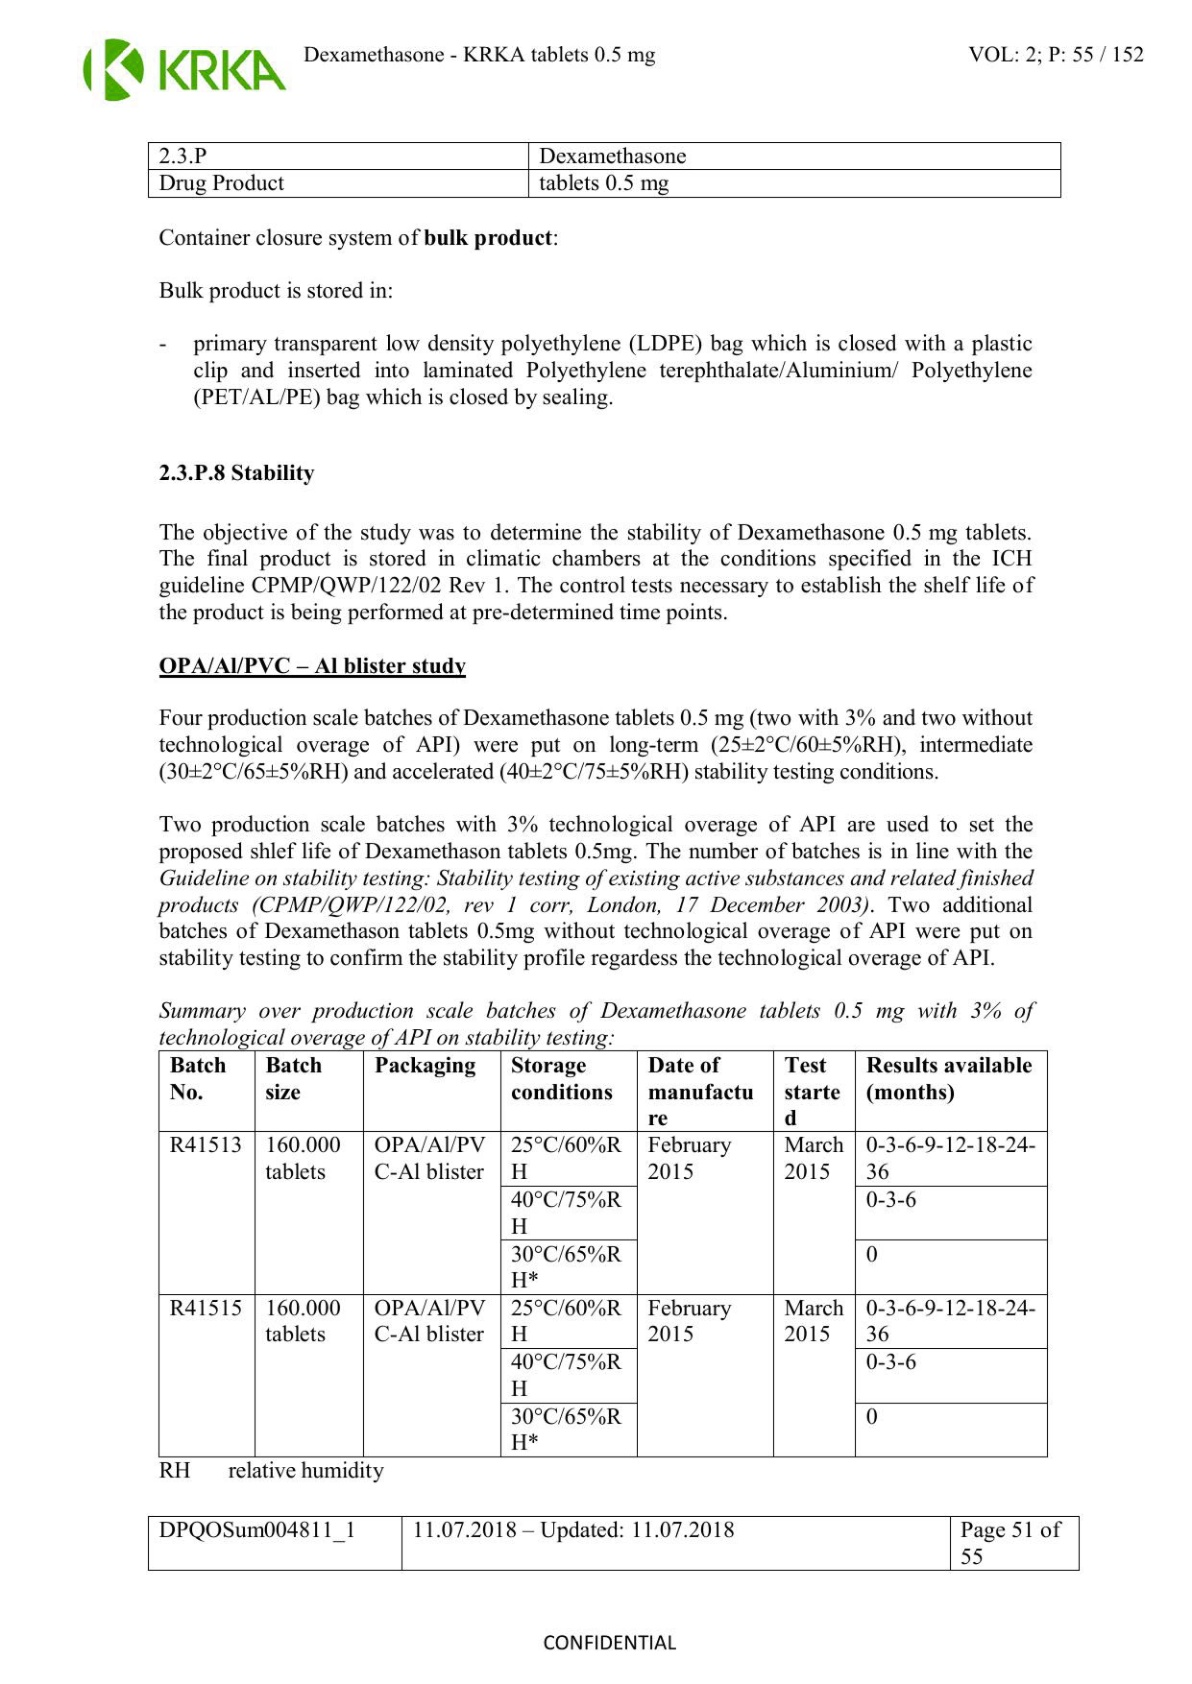full_lined: (147, 141, 1062, 199), (146, 1515, 1081, 1571)
merged_cells: (157, 1050, 1049, 1458)
